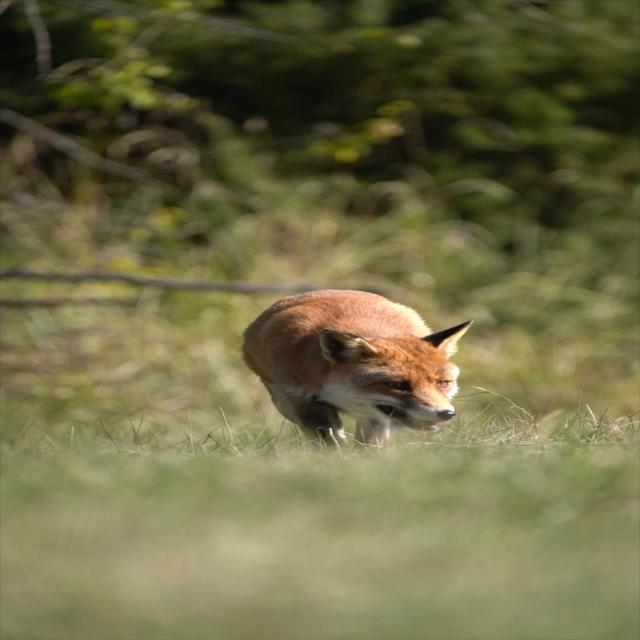fox: (196, 272, 514, 460)
